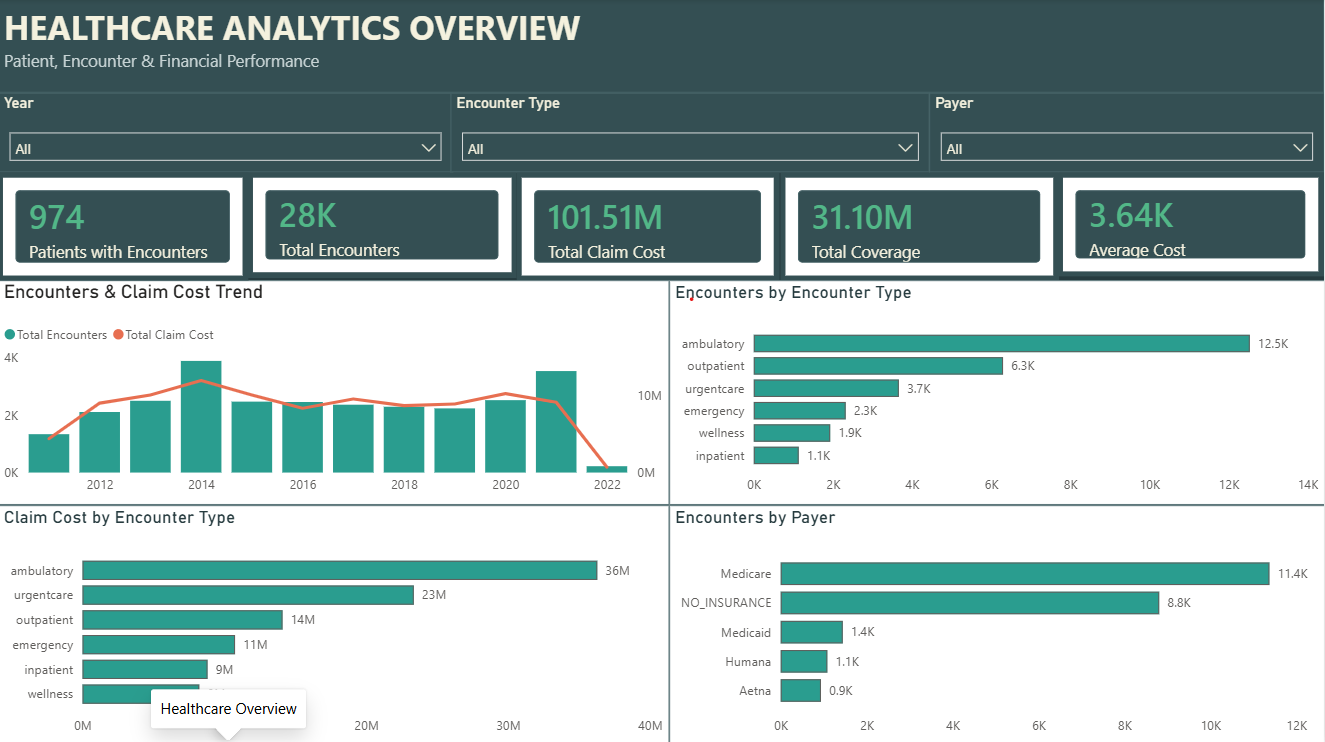

The dashboard page shown, as its layout file describes it:
{"tool":"powerbi","page":{"name":"Healthcare Overview","canvas":[1280,720],"ordinal":0},"visuals":[{"type":"cardVisual","fields":{"Data":["Table.Total Encounters"]},"box":[241.5,167.4,259.3,101.5],"z":0},{"type":"cardVisual","fields":{"Data":["Table.Total Claim Cost"]},"box":[500.9,167.4,253.9,104.3],"z":1000},{"type":"cardVisual","fields":{"Data":["Table.Total Payer Coverage"]},"box":[754.7,167.4,269,104.3],"z":2000},{"type":"cardVisual","fields":{"Data":["Table.Average Claim Cost"]},"box":[1023.4,167.4,256.6,100.2],"z":3000},{"type":"textbox","box":[0,0,1280.3,90.5],"z":4000},{"type":"lineClusteredColumnComboChart","title":"Encounters & Claim Cost Trend","fields":{"Category":["hospital_db encounters.Year"],"Y":["Table.Total Encounters"],"Y2":["Table.Total Claim Cost"]},"box":[0,271.7,647.7,216.8],"z":5000},{"type":"clusteredBarChart","title":"Encounters by Encounter Type","fields":{"Category":["hospital_db encounters.ENCOUNTERCLASS"],"Y":["Table.Total Encounters"]},"box":[647.7,271.7,632.6,216.8],"z":6000},{"type":"clusteredBarChart","title":"Claim Cost by Encounter Type","fields":{"Category":["hospital_db encounters.ENCOUNTERCLASS"],"Y":["Table.Total Claim Cost"]},"box":[0,488.5,647.7,231.9],"z":7000},{"type":"clusteredBarChart","title":"Encounters by Payer","fields":{"Category":["hospital_db payers.NAME"],"Y":["Table.Total Encounters"]},"box":[647.7,488.5,632.6,231.9],"z":8000},{"type":"slicer","title":"Year","fields":{"Values":["hospital_db encounters.Year"]},"box":[0,90.5,439,77],"z":9000},{"type":"slicer","title":"Encounter Type","fields":{"Values":["hospital_db encounters.ENCOUNTERCLASS"]},"box":[436.4,90.6,462.4,76.8],"z":10000},{"type":"slicer","title":"Payer","fields":{"Values":["hospital_db payers.NAME"]},"box":[898.8,90.6,381.5,76.8],"z":11000},{"type":"cardVisual","fields":{"Data":["Table.Filtered Patients"]},"box":[0,167.4,241.5,104.3],"z":12000}]}

Visuals, with their boxes in screenshot pixels (x1, y1, x2, y2), scaled from the page's 1280x720 canvas onto the 1325x742 screenshot:
cardVisual - Table.Total Encounters: box=[250, 173, 518, 277]
cardVisual - Table.Total Claim Cost: box=[519, 173, 781, 280]
cardVisual - Table.Total Payer Coverage: box=[781, 173, 1060, 280]
cardVisual - Table.Average Claim Cost: box=[1059, 173, 1324, 276]
textbox: box=[0, 0, 1324, 93]
"Encounters & Claim Cost Trend" lineClusteredColumnComboChart: box=[0, 280, 670, 503]
"Encounters by Encounter Type" clusteredBarChart: box=[670, 280, 1324, 503]
"Claim Cost by Encounter Type" clusteredBarChart: box=[0, 503, 670, 741]
"Encounters by Payer" clusteredBarChart: box=[670, 503, 1324, 741]
"Year" slicer: box=[0, 93, 454, 173]
"Encounter Type" slicer: box=[452, 93, 930, 173]
"Payer" slicer: box=[930, 93, 1324, 173]
cardVisual - Table.Filtered Patients: box=[0, 173, 250, 280]
